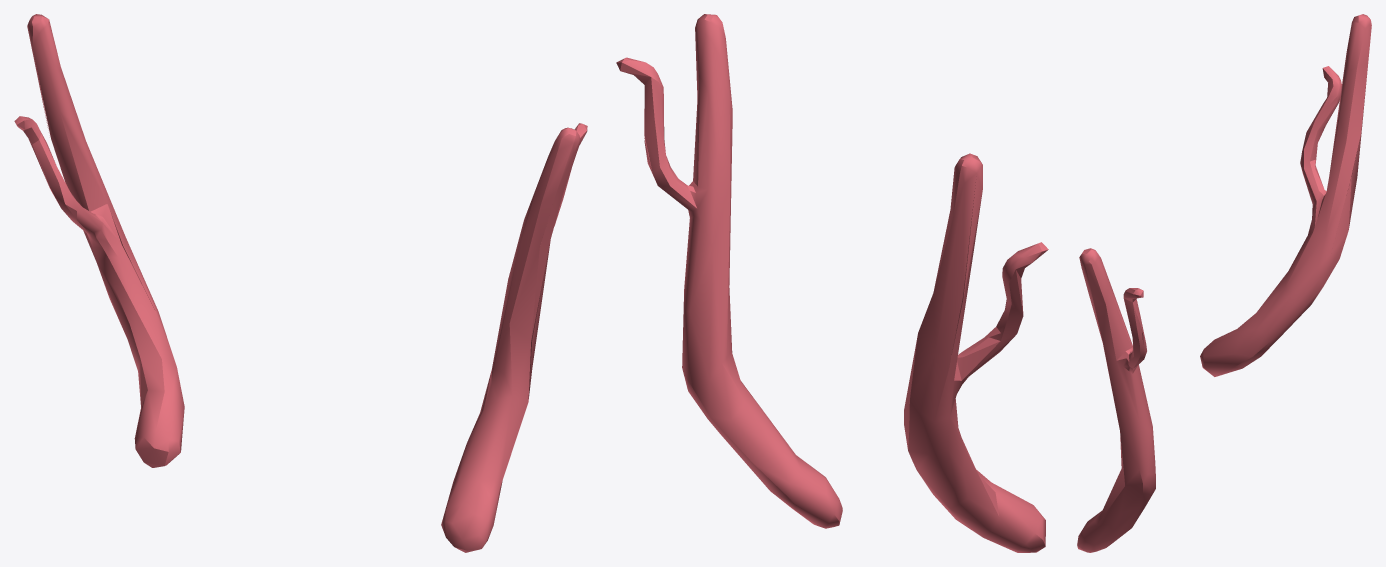
Rendered from fma71669_fj886.glb.
3 views of the same model, side by side, from view 1: azimuth 30°, elevation 25°; view 2: azimuth 150°, elevation 25°; view 3: azimuth 270°, elevation 25° (orthographic). The views are drawn at different scales.
Parts seen in each view (by area): view 1: FMA71669_FJ886; view 2: FMA71669_FJ886; view 3: FMA71669_FJ886.
Boxes of the visible parts, left/top/right/bottom form: FMA71669_FJ886: left=14, top=14, right=587, bottom=552; FMA71669_FJ886: left=616, top=14, right=1048, bottom=552; FMA71669_FJ886: left=1077, top=14, right=1371, bottom=552.
Bounding box in the file's own units: 0.0207 × 0.0208 × 0.0132.
